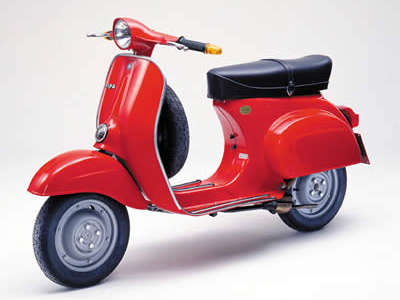motorcycle: (29, 15, 369, 286)
